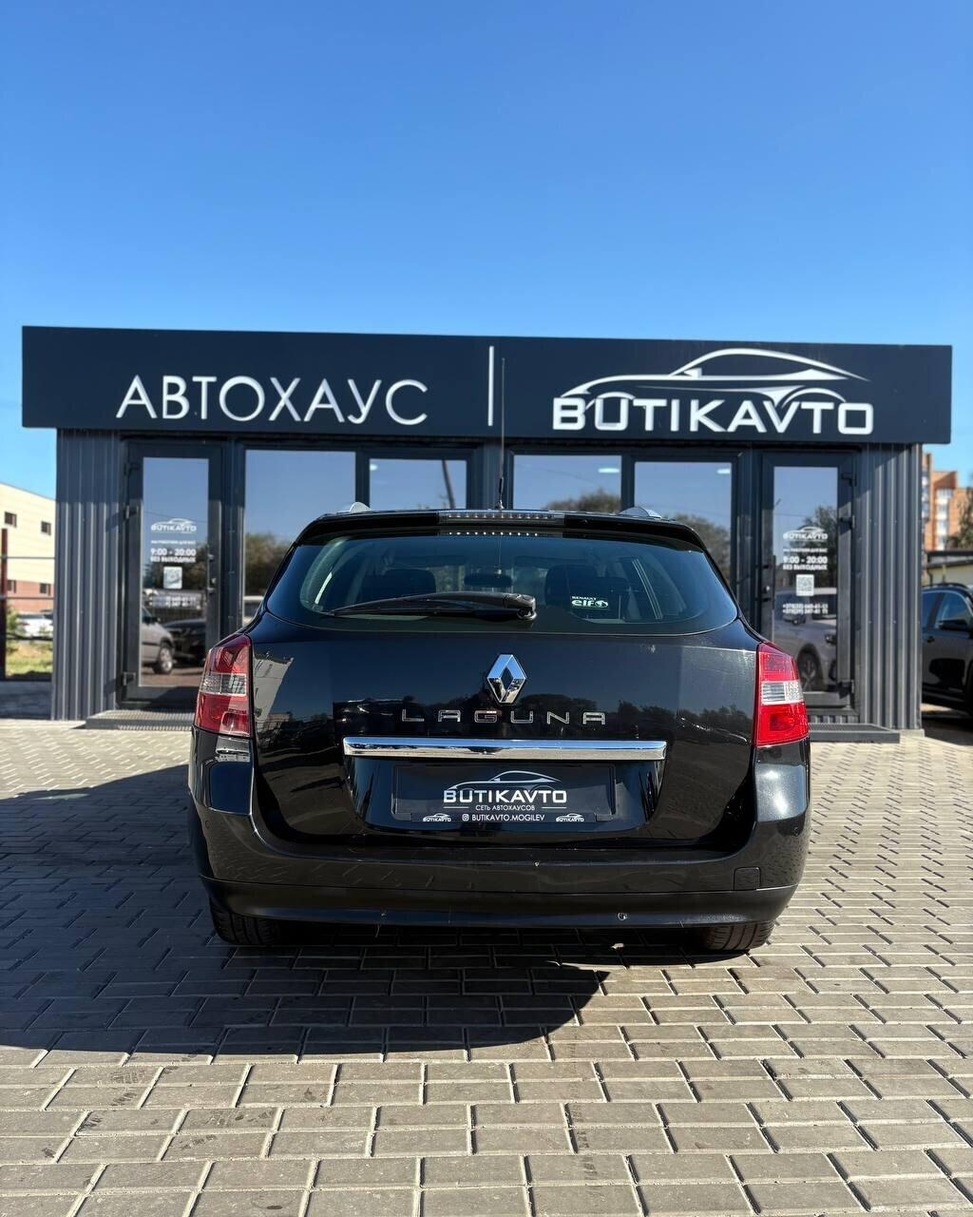Laguna_2007-2011: (191, 508, 809, 950)
